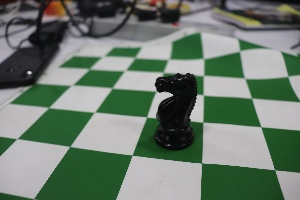black_horse: (145, 53, 202, 162)
